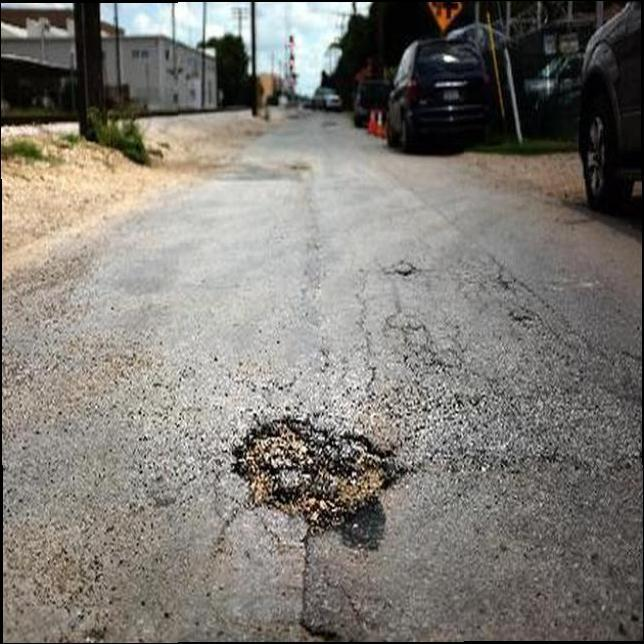Lubang: (250, 425, 418, 545)
